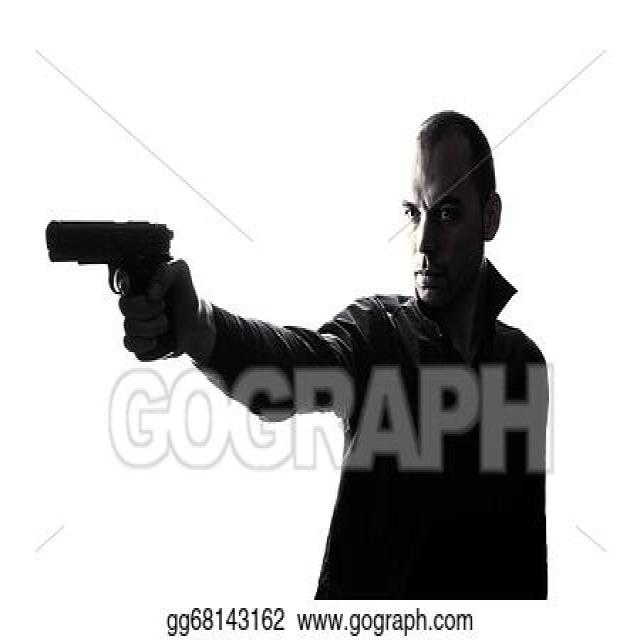HandGun: (46, 222, 175, 362)
